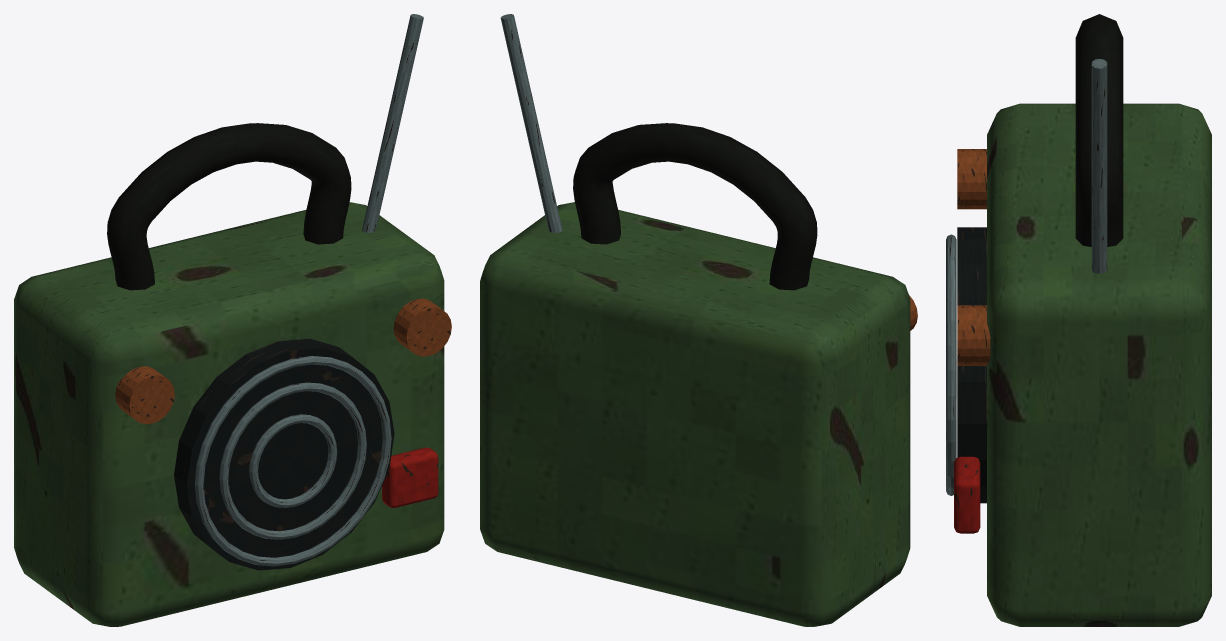
Rendered from eq-soundplayer.glb.
The picture shows the model from 3 angles, left to right: view 1: azimuth 30°, elevation 25°; view 2: azimuth 150°, elevation 25°; view 3: azimuth 270°, elevation 25°; orthographic projection. The views are drawn at different scales.
Visible parts, largest first — view 1: Body.001, Speaker, Carry handle.003, Speaker grille.002, Speaker grille.001, Antenna.001, Play button, Knob, Knob.001, Speaker grille; view 2: Body.001, Carry handle.003, Antenna.001; view 3: Body.001, Carry handle.003, Speaker, Antenna.001, Speaker grille.002, Play button, Knob.001, Knob.
Part boxes in pixels (left/top/right/bottom): Body.001: left=14, top=202, right=444, bottom=626; Speaker: left=174, top=338, right=394, bottom=570; Carry handle.003: left=107, top=123, right=351, bottom=290; Speaker grille.002: left=195, top=356, right=391, bottom=566; Speaker grille.001: left=219, top=382, right=366, bottom=539; Antenna.001: left=362, top=14, right=423, bottom=232; Play button: left=382, top=447, right=438, bottom=507; Knob: left=115, top=366, right=174, bottom=424; Knob.001: left=393, top=298, right=451, bottom=356; Speaker grille: left=249, top=414, right=337, bottom=507; Body.001: left=480, top=202, right=910, bottom=626; Carry handle.003: left=573, top=123, right=817, bottom=290; Antenna.001: left=500, top=14, right=562, bottom=232; Body.001: left=987, top=103, right=1211, bottom=626; Carry handle.003: left=1075, top=14, right=1123, bottom=246; Speaker: left=957, top=227, right=986, bottom=503; Antenna.001: left=1091, top=59, right=1107, bottom=273; Speaker grille.002: left=946, top=234, right=956, bottom=495; Play button: left=954, top=456, right=980, bottom=533; Knob.001: left=957, top=305, right=990, bottom=365; Knob: left=957, top=149, right=986, bottom=209.
Bounding box in the file's own units: 0.3758 × 0.4865 × 0.201.
6 materials, 6 textured.
